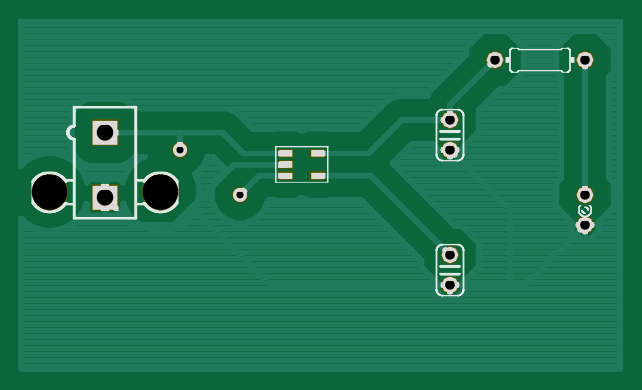LED: (576, 185, 595, 235)
capacitance: (434, 109, 465, 162), (435, 243, 465, 296)
power_supply: (31, 105, 179, 220)
regulation: (275, 145, 329, 183)
resistance: (487, 47, 594, 74)
